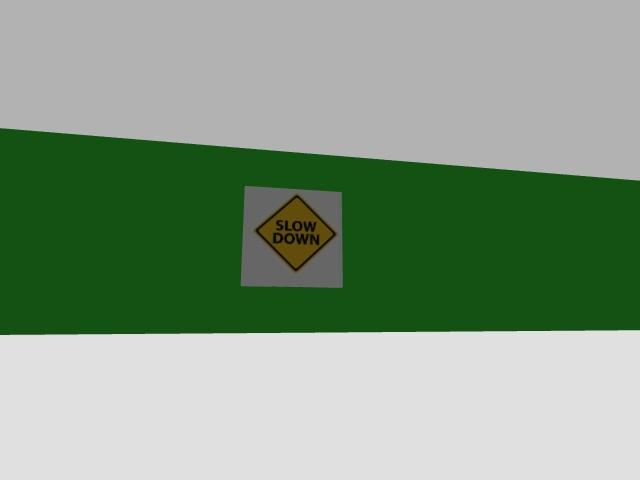slowsign: (241, 186, 342, 286)
